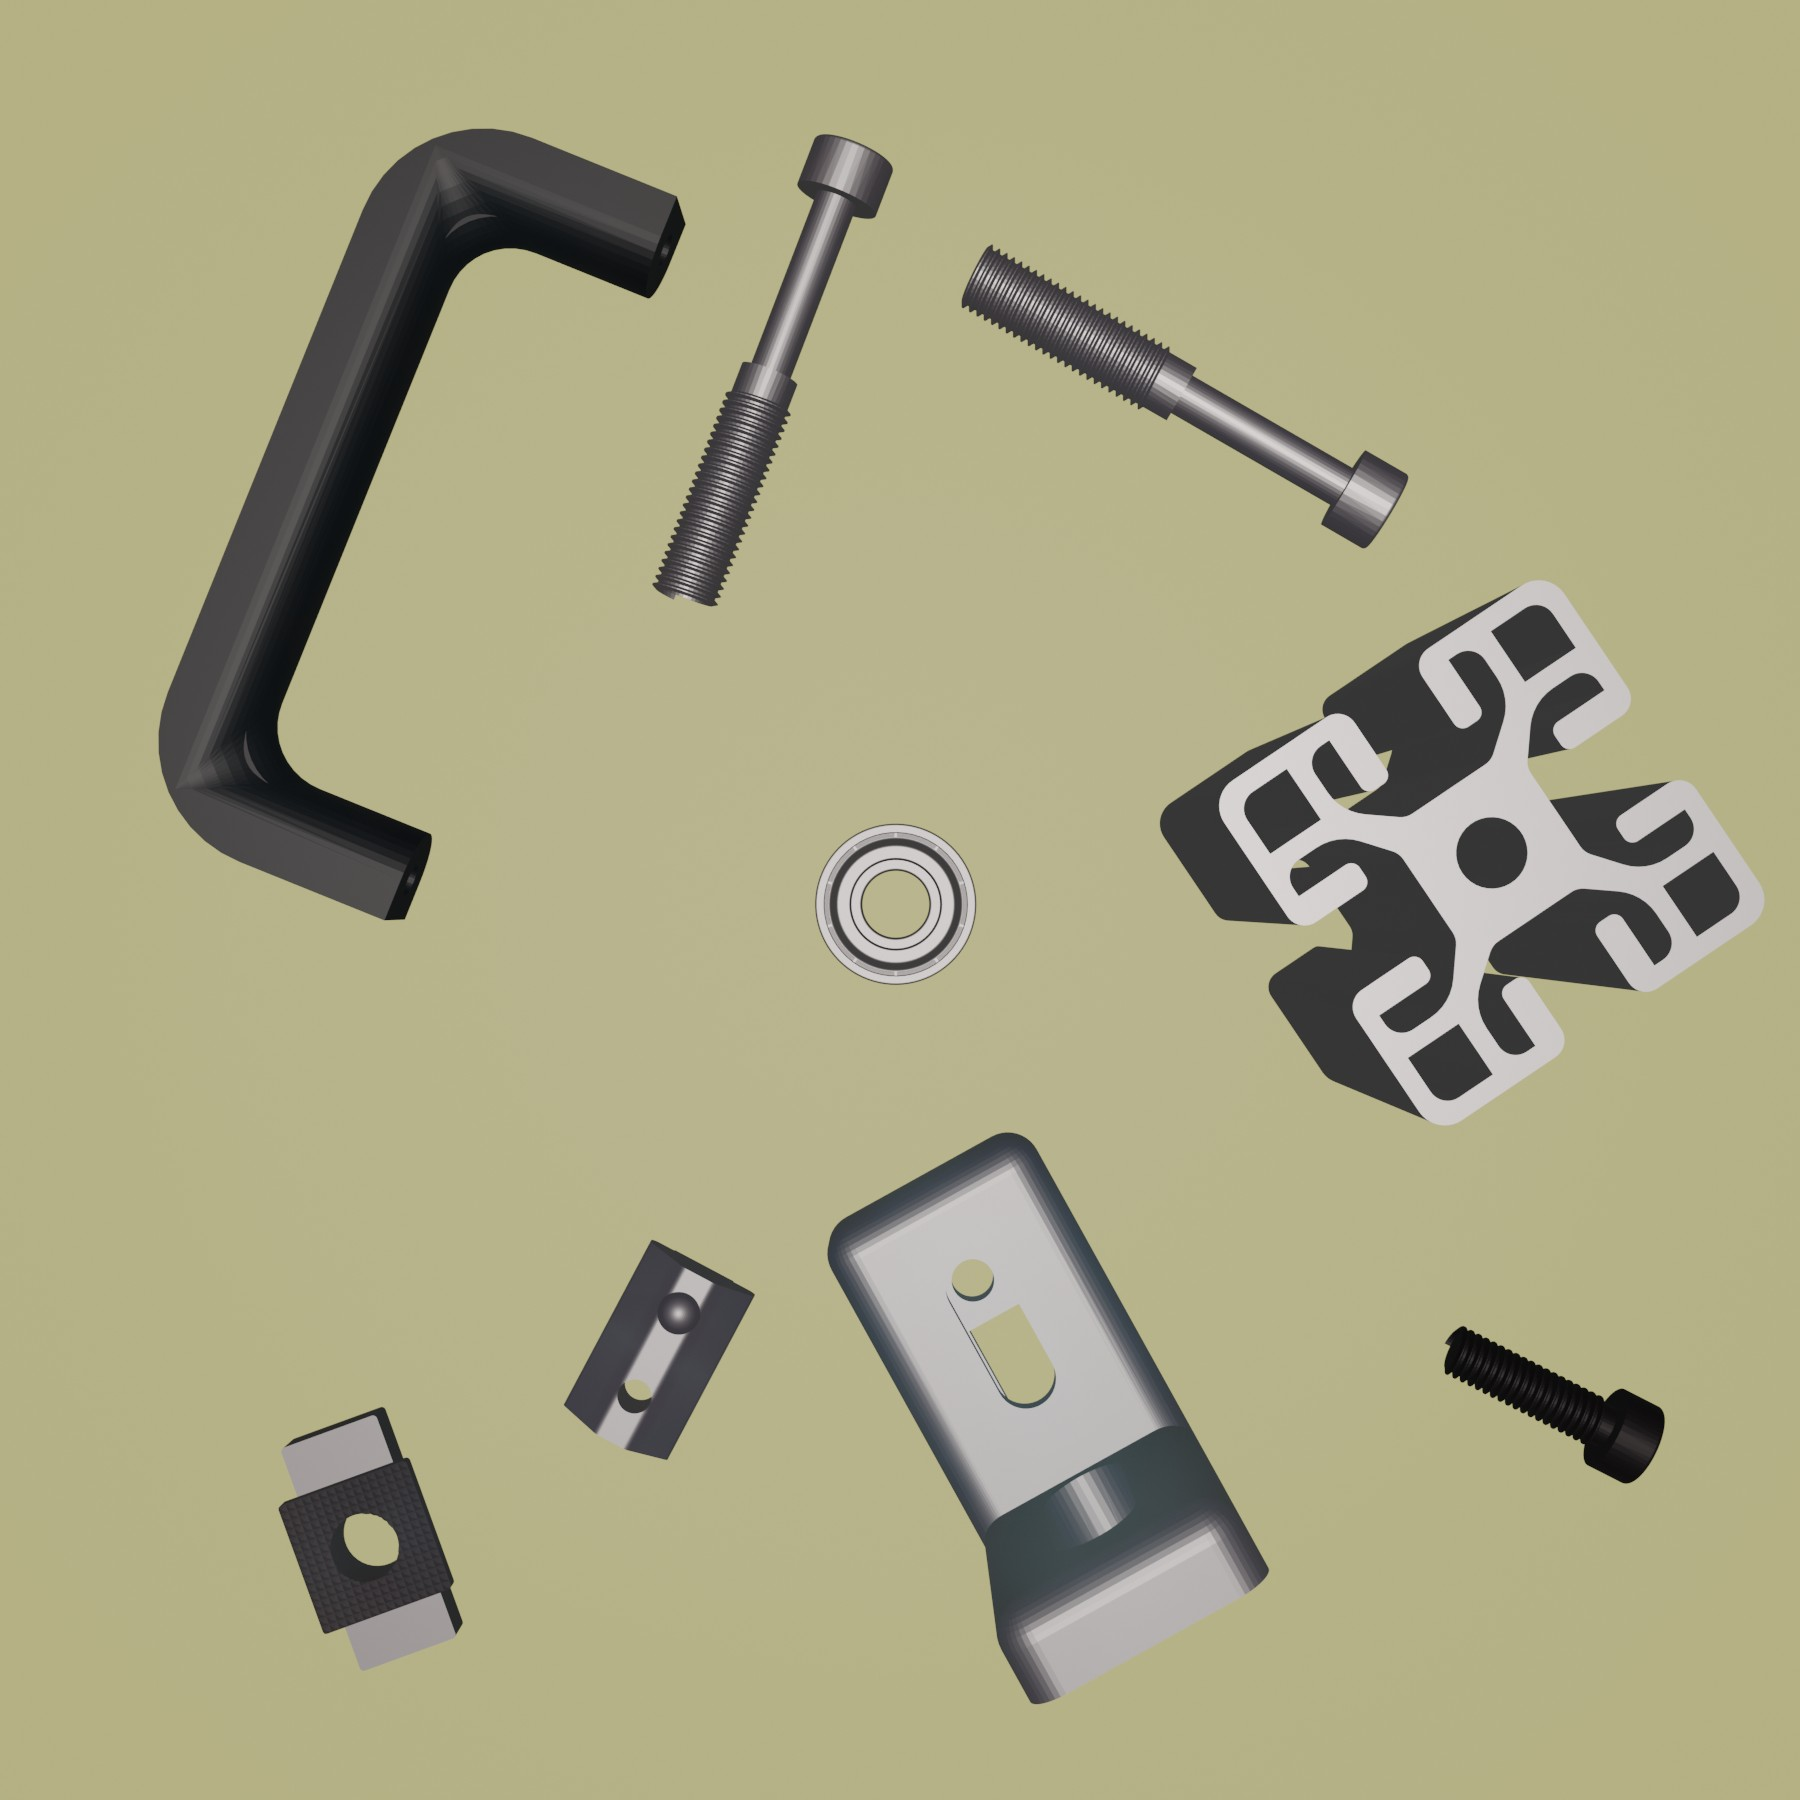Aluminium Extension: (1159, 575, 1770, 1131)
Ball Bearing: (813, 823, 977, 987)
Multiwinkel: (824, 1127, 1269, 1708)
Pull Handle: (155, 122, 687, 923)
Shoulder Socket Head Cap Screw: (956, 241, 1409, 551), (648, 132, 897, 612)
Socket Head Cap Screw: (1437, 1324, 1666, 1488)
T Nut Square: (279, 1404, 462, 1673)
T Spring Nut: (559, 1235, 757, 1462)
